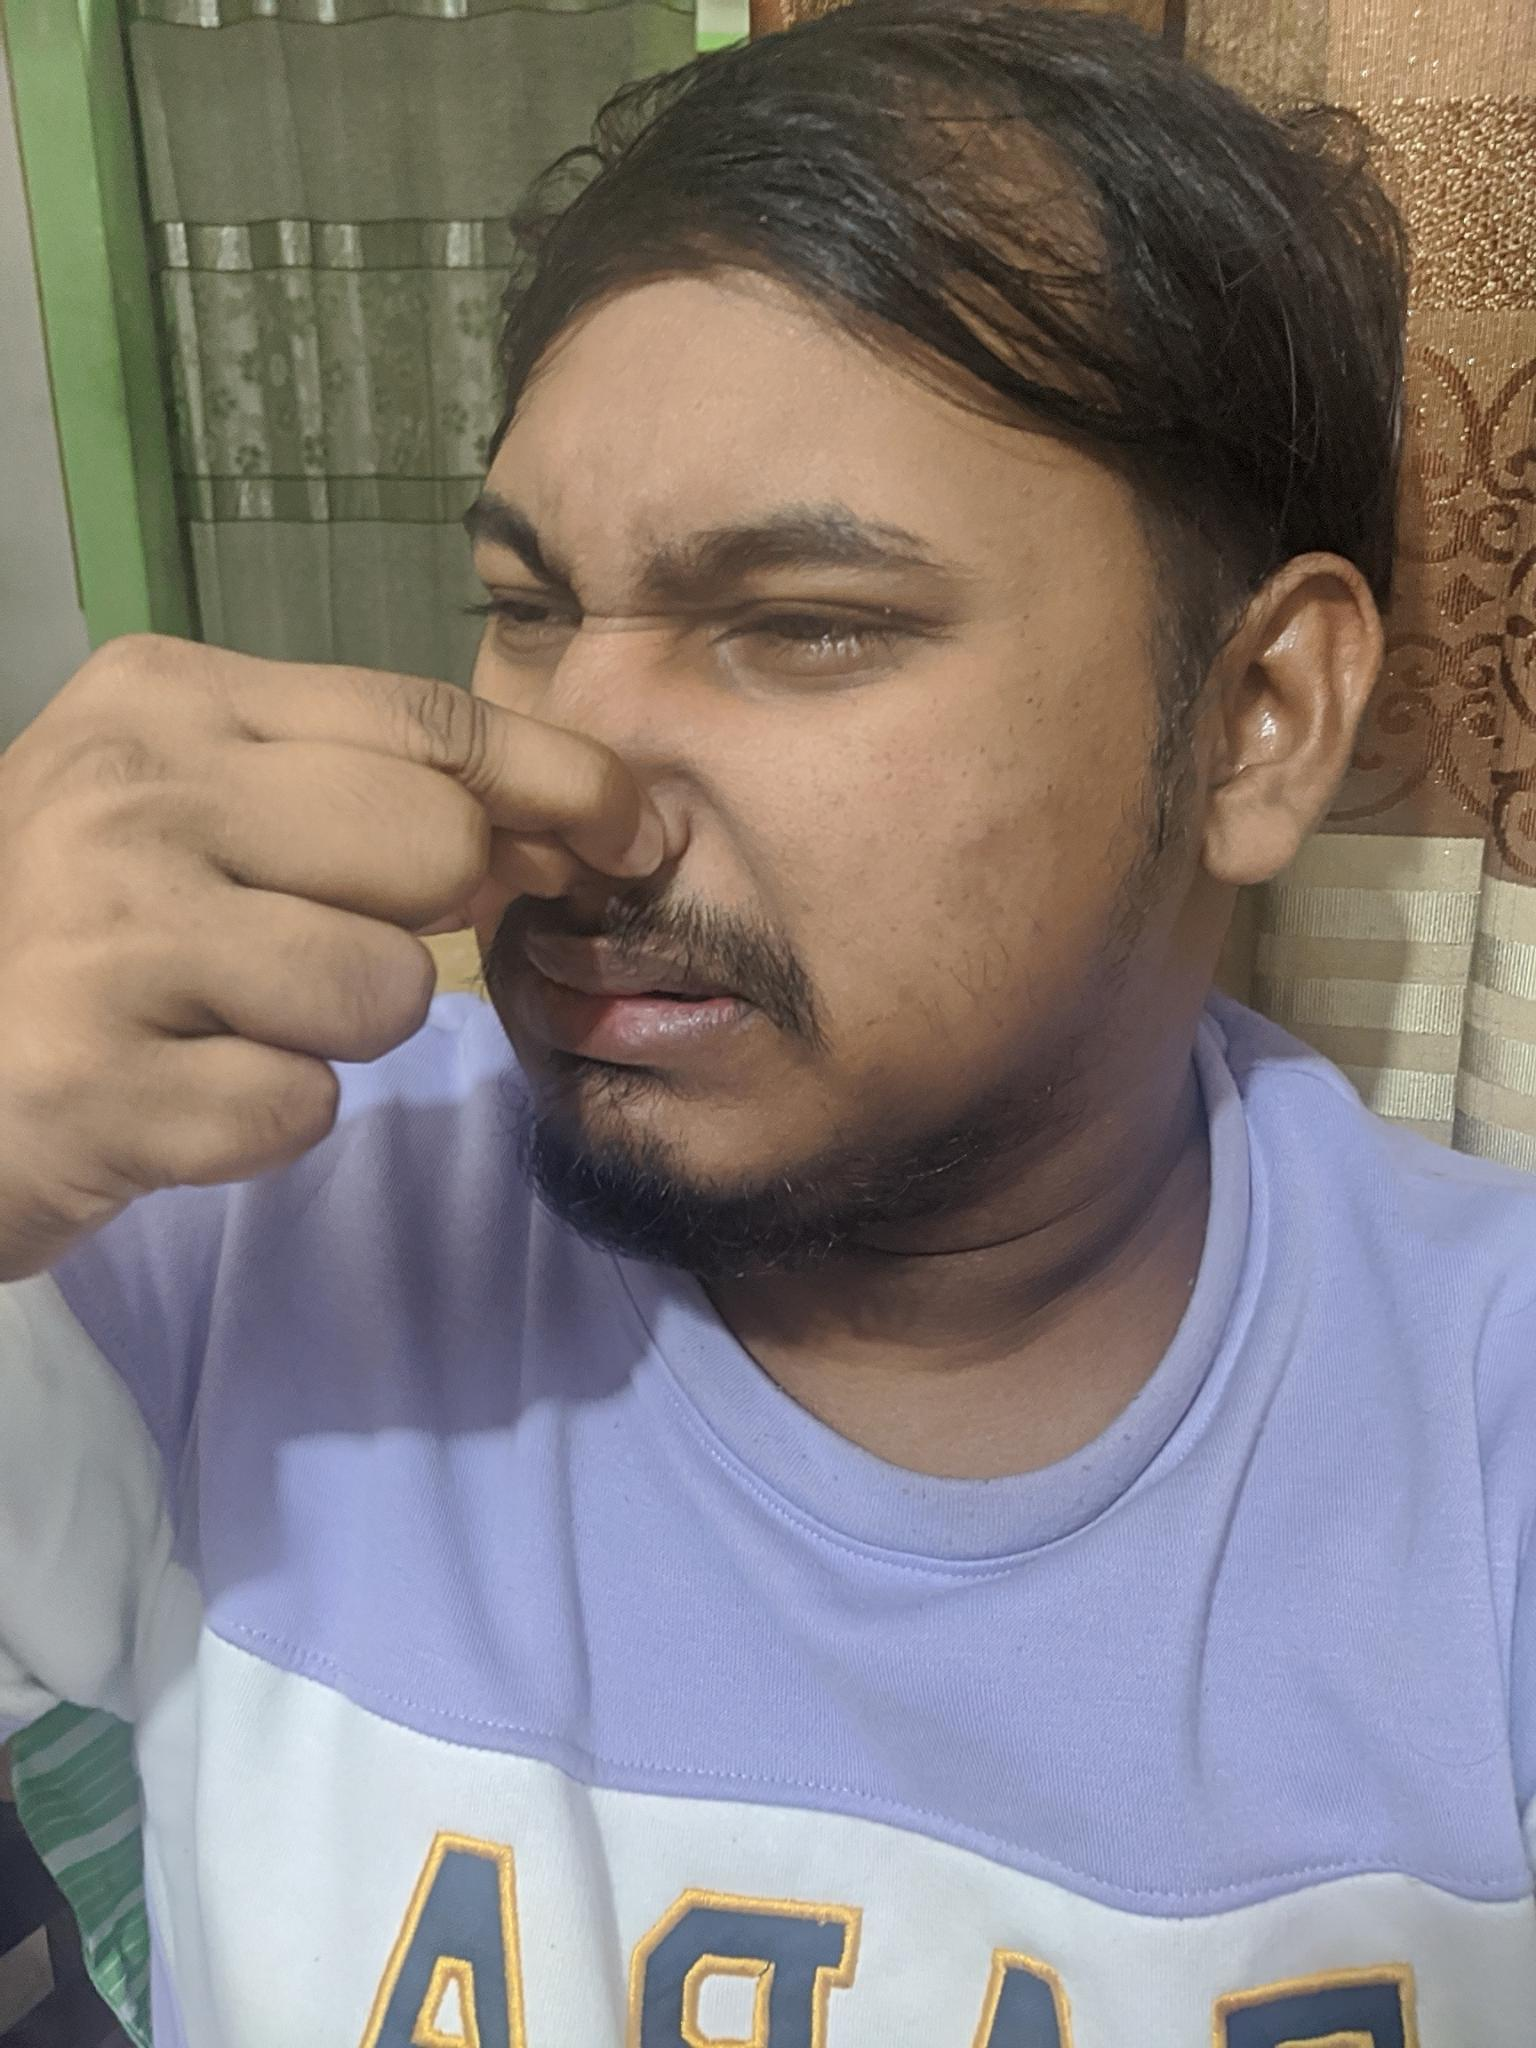Disgust: (379, 397, 1070, 1276)
